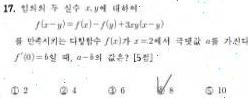choice: (155, 80, 166, 96)
not-choice: (58, 84, 69, 96), (105, 85, 117, 96), (9, 85, 20, 96), (204, 85, 215, 95)
